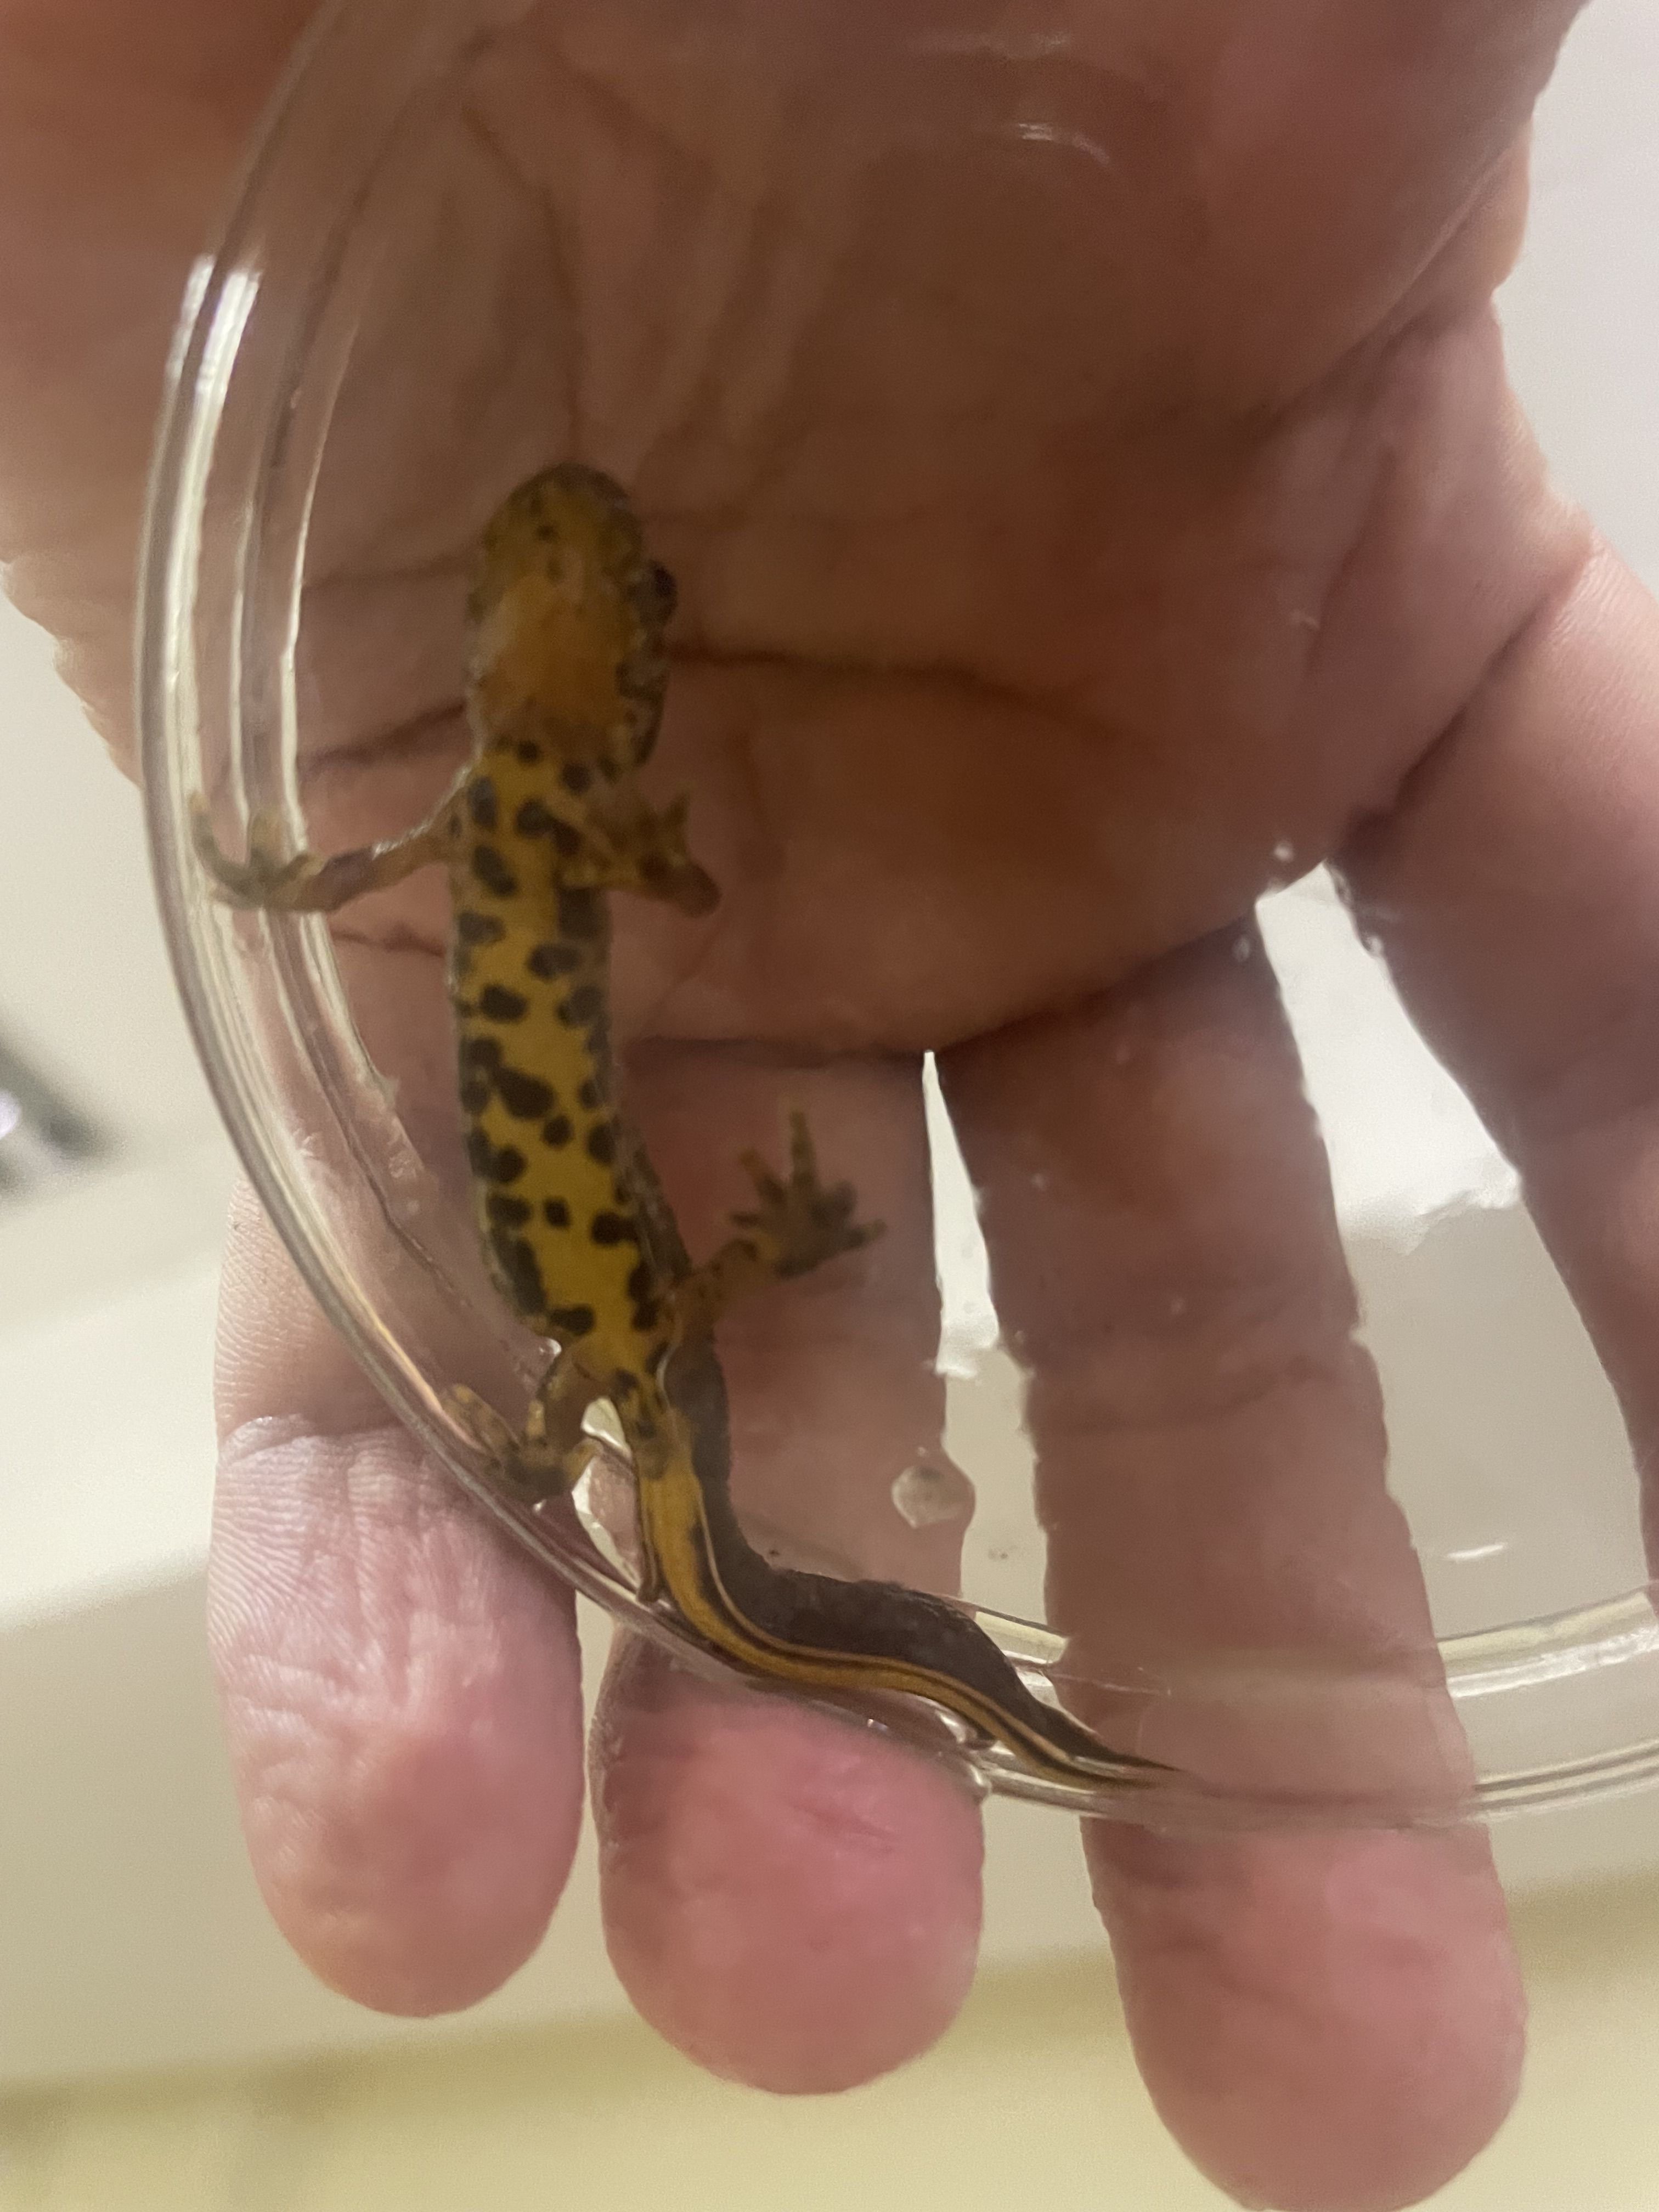Karelin_newt: (448, 862, 695, 1339)
